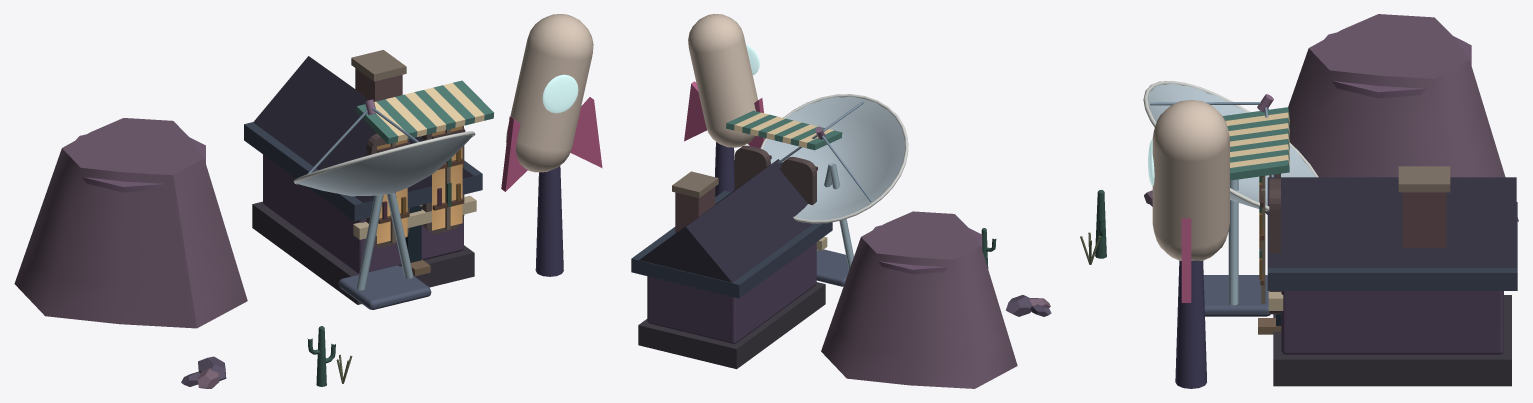
Rendered from moonmile-map.glb.
The picture shows the model from 3 angles, left to right: view 1: azimuth 30°, elevation 25°; view 2: azimuth 150°, elevation 25°; view 3: azimuth 270°, elevation 25°; orthographic projection. The views are drawn at different scales.
Parts seen in each view (by area): view 1: place-static, rocket-sign, radio-bowl, large-place-glows; view 2: place-static, radio-bowl, rocket-sign; view 3: place-static, rocket-sign, radio-bowl.
Part boxes in pixels (bbox=[...]): place-static: bbox=[14, 50, 493, 388]; rocket-sign: bbox=[501, 14, 602, 276]; radio-bowl: bbox=[293, 99, 475, 196]; large-place-glows: bbox=[377, 126, 462, 243]; place-static: bbox=[631, 110, 1051, 388]; radio-bowl: bbox=[760, 94, 908, 223]; rocket-sign: bbox=[684, 14, 764, 196]; place-static: bbox=[1080, 14, 1518, 386]; rocket-sign: bbox=[1148, 100, 1229, 388]; radio-bowl: bbox=[1143, 81, 1318, 211].
Size of the model in its own units: 5.85 by 3.23 by 4.14.
